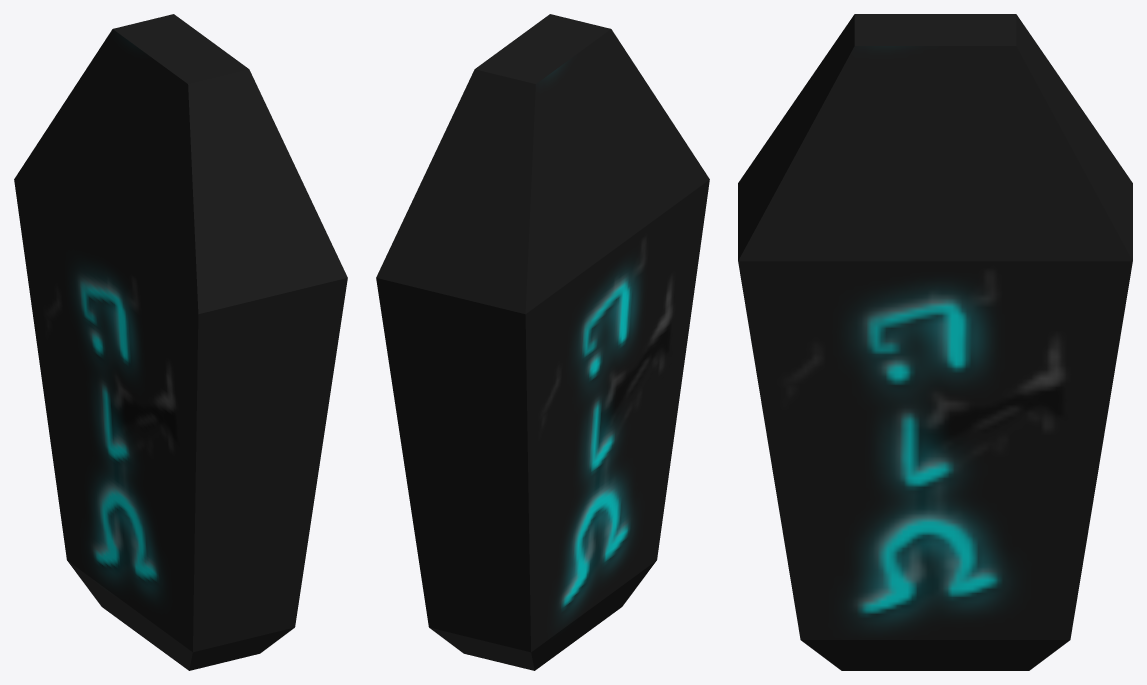
File: rune-rock.obj
3 renders of one model, left to right at view 1: azimuth 30°, elevation 25°; view 2: azimuth 150°, elevation 25°; view 3: azimuth 270°, elevation 25°, orthographic. The views are drawn at different scales.
Visible parts, largest first — view 1: Cube; view 2: Cube; view 3: Cube.
Part boxes in pixels (x1,y1,x2,y2): Cube: (14, 14, 347, 670); Cube: (376, 14, 709, 670); Cube: (738, 14, 1132, 670).
Size of the model in its own units: 0.9366 by 3.48 by 2.
